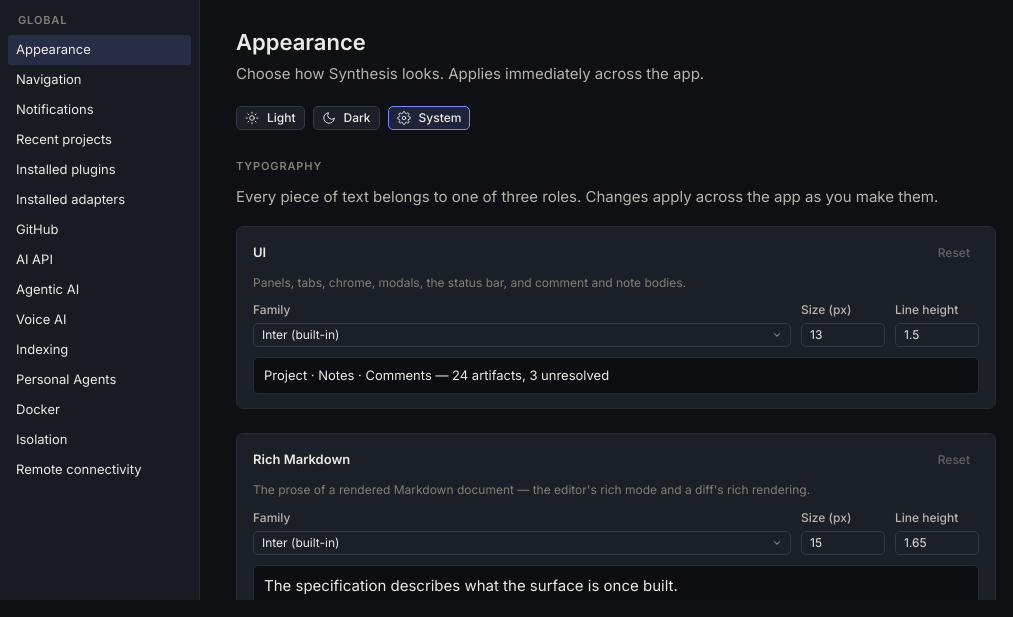
it: Recent projects section (GLS-FR-06..06) › shows a first-class empty state (GLS-FR-12)
Click the tab "Recent projects" at [100, 140], box [8,124,191,154]
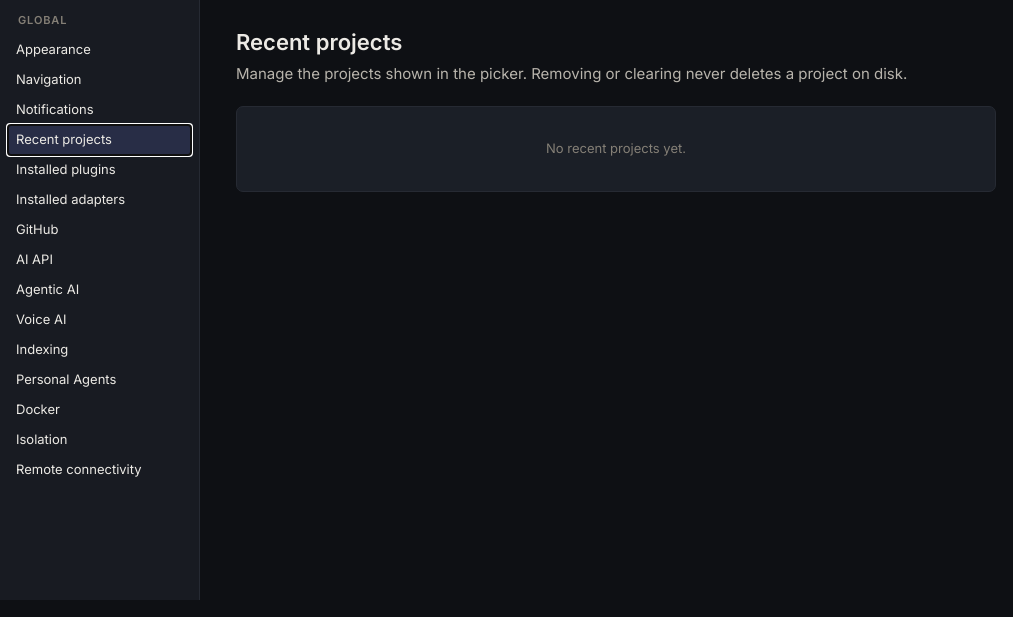
Check: the text "No recent projects yet." is shown, box [236,106,996,192]
